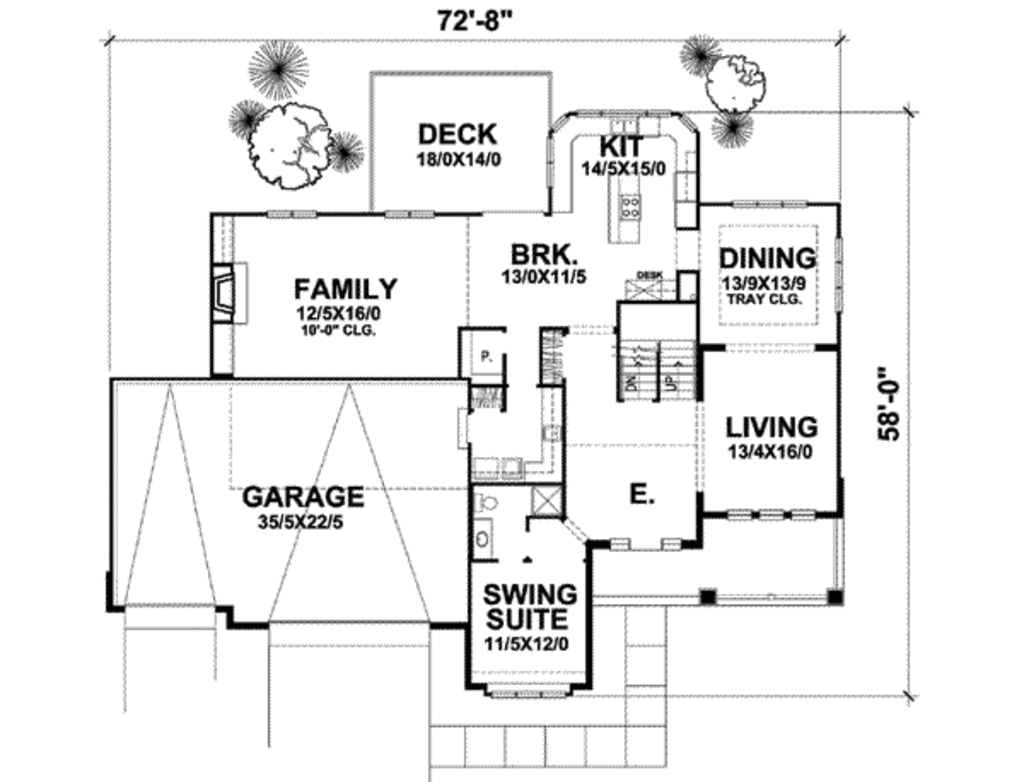large_sink: (471, 487, 506, 517)
small_sink: (471, 514, 495, 563)
stairs: (623, 300, 698, 404)
twin_sink: (604, 114, 642, 135)
window: (725, 500, 816, 526), (734, 191, 812, 216), (378, 198, 436, 229), (831, 232, 851, 317), (262, 200, 319, 229), (496, 684, 568, 704), (540, 120, 560, 192)
